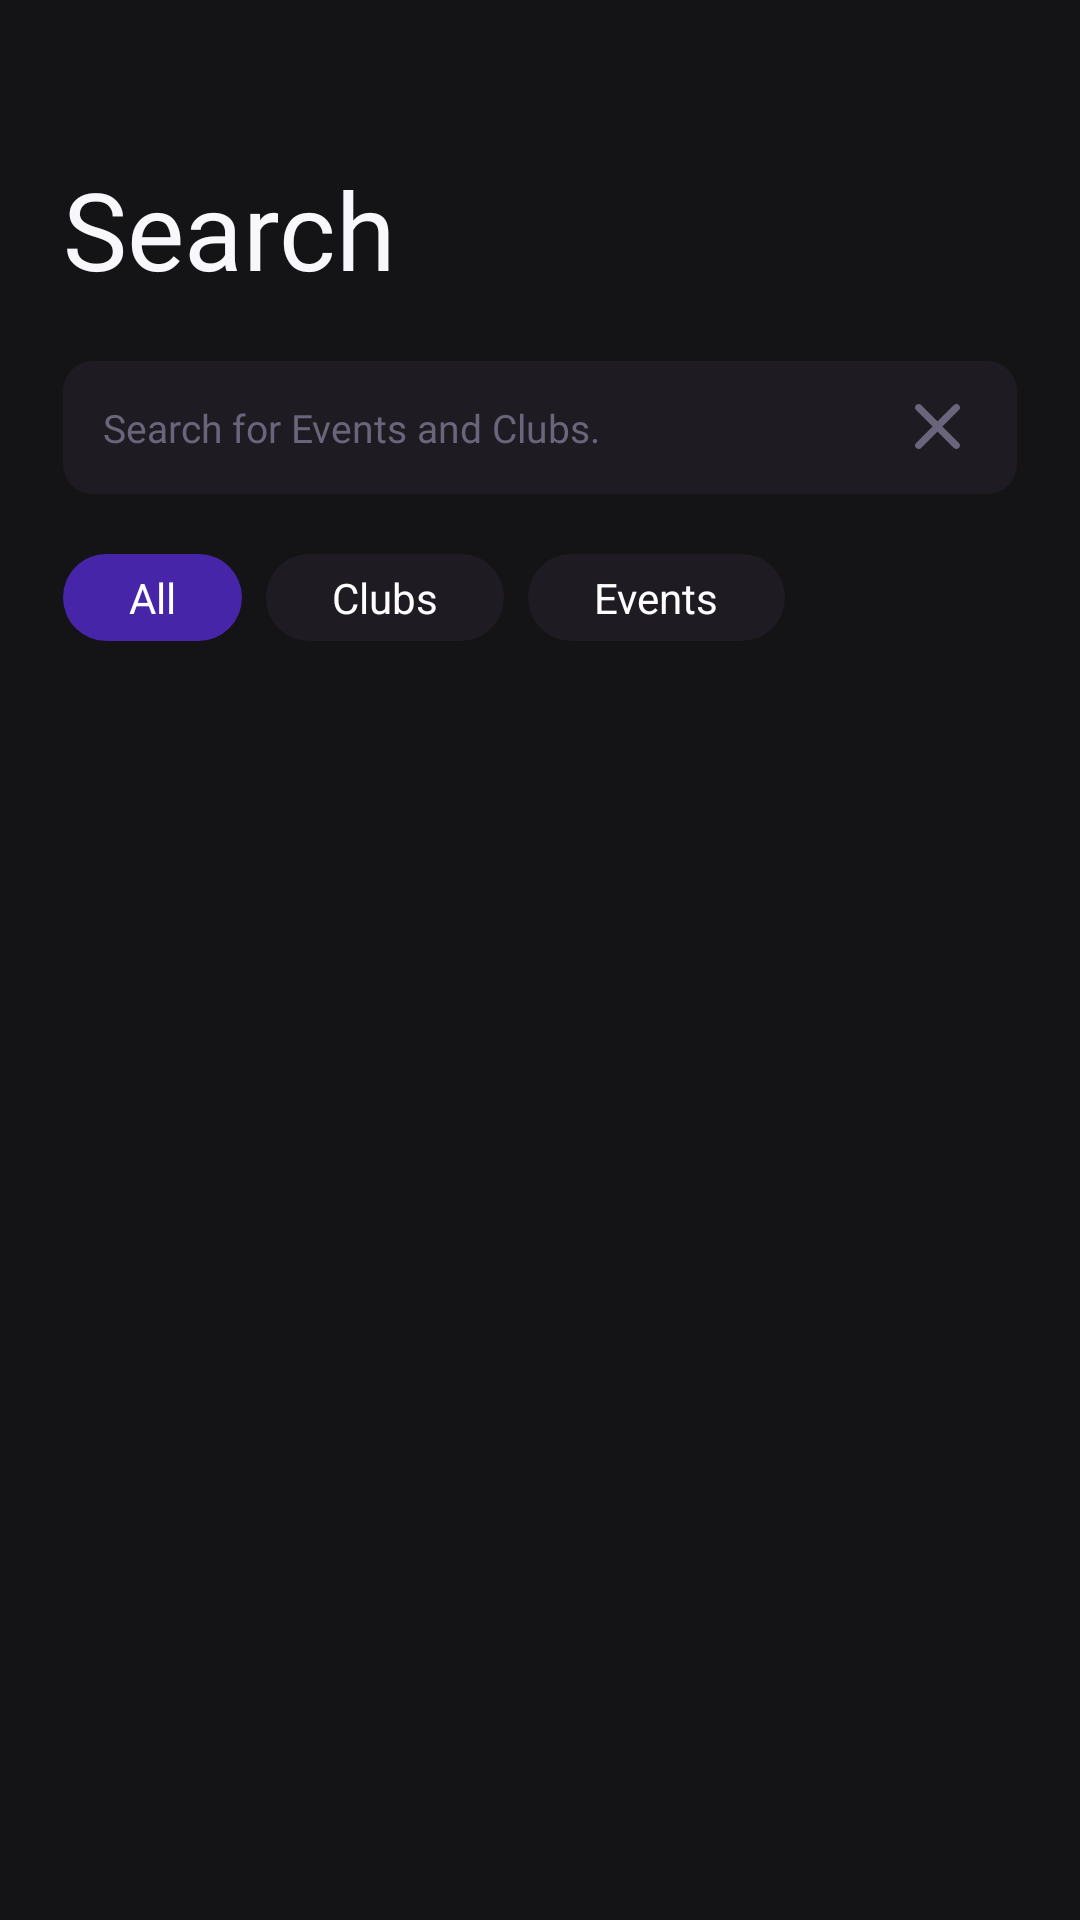

Named icons in this screenshot (1080px×1920px) and their bounding boxes, (x1, y1, x2, y2):
cancel: (915, 404, 960, 449)
